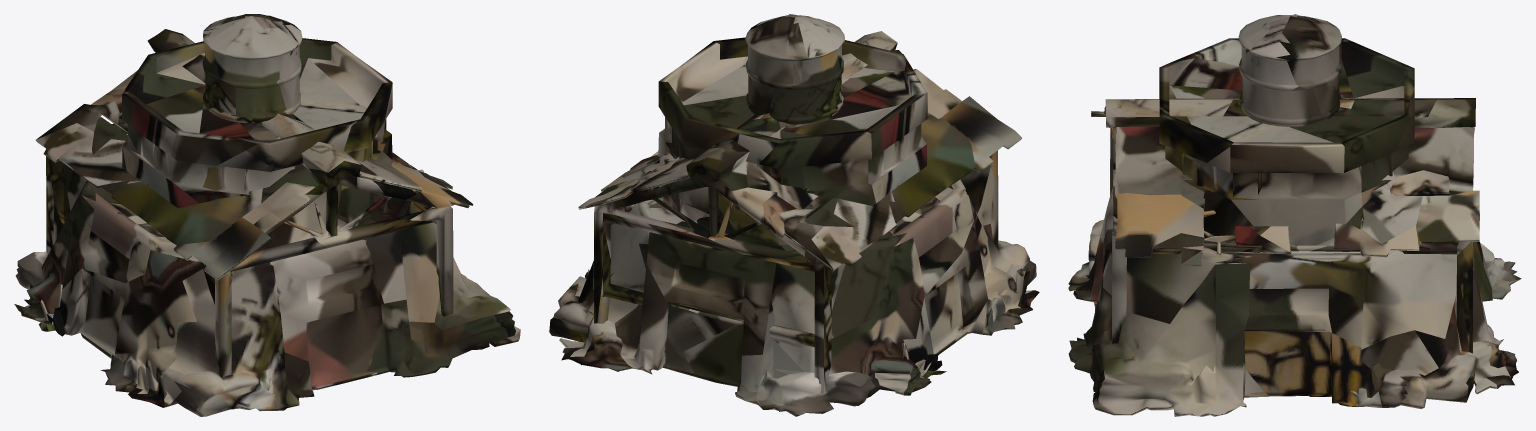
Rendered from military+outpost+3d+model.fbx.
3 views of the same model, side by side, from view 1: azimuth 30°, elevation 25°; view 2: azimuth 150°, elevation 25°; view 3: azimuth 270°, elevation 25° (orthographic). The views are drawn at different scales.
Parts seen in each view (by area): view 1: tripo_node_3b5a08f3.002, tripo_node_3b5a08f3.004, tripo_node_3b5a08f3.001; view 2: tripo_node_3b5a08f3.002, tripo_node_3b5a08f3.004, tripo_node_3b5a08f3.001; view 3: tripo_node_3b5a08f3.002, tripo_node_3b5a08f3.004, tripo_node_3b5a08f3.001.
Boxes of the visible parts, x1,y1,x2,y2 form: tripo_node_3b5a08f3.002: (14, 38, 520, 416); tripo_node_3b5a08f3.004: (36, 29, 473, 377); tripo_node_3b5a08f3.001: (202, 14, 302, 123); tripo_node_3b5a08f3.002: (549, 37, 1039, 416); tripo_node_3b5a08f3.004: (578, 31, 1021, 394); tripo_node_3b5a08f3.001: (745, 14, 844, 124); tripo_node_3b5a08f3.002: (1068, 38, 1521, 416); tripo_node_3b5a08f3.004: (1091, 98, 1479, 353); tripo_node_3b5a08f3.001: (1238, 14, 1341, 126).
Size of the model in its own units: 56.91 by 43.16 by 57.54.
